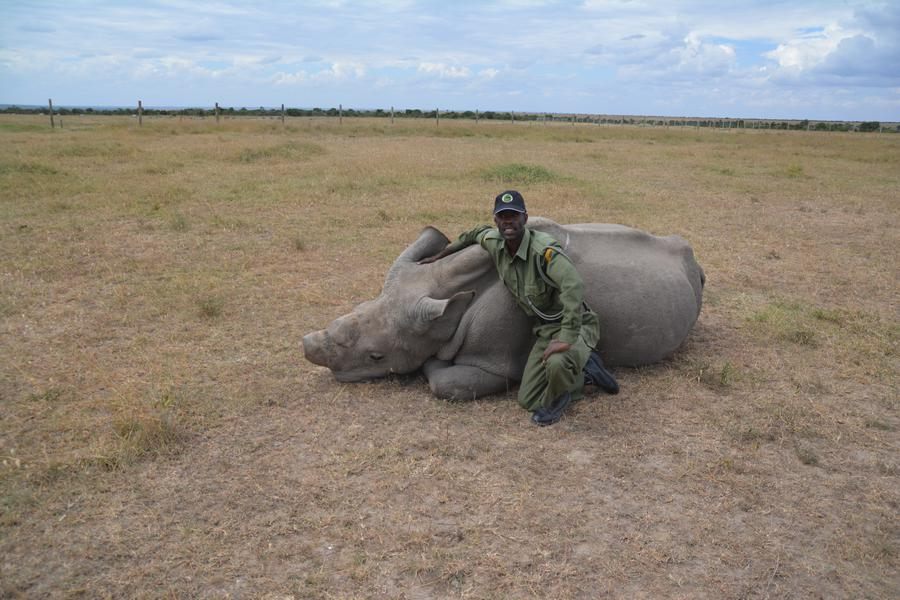rhino: (300, 181, 717, 404)
